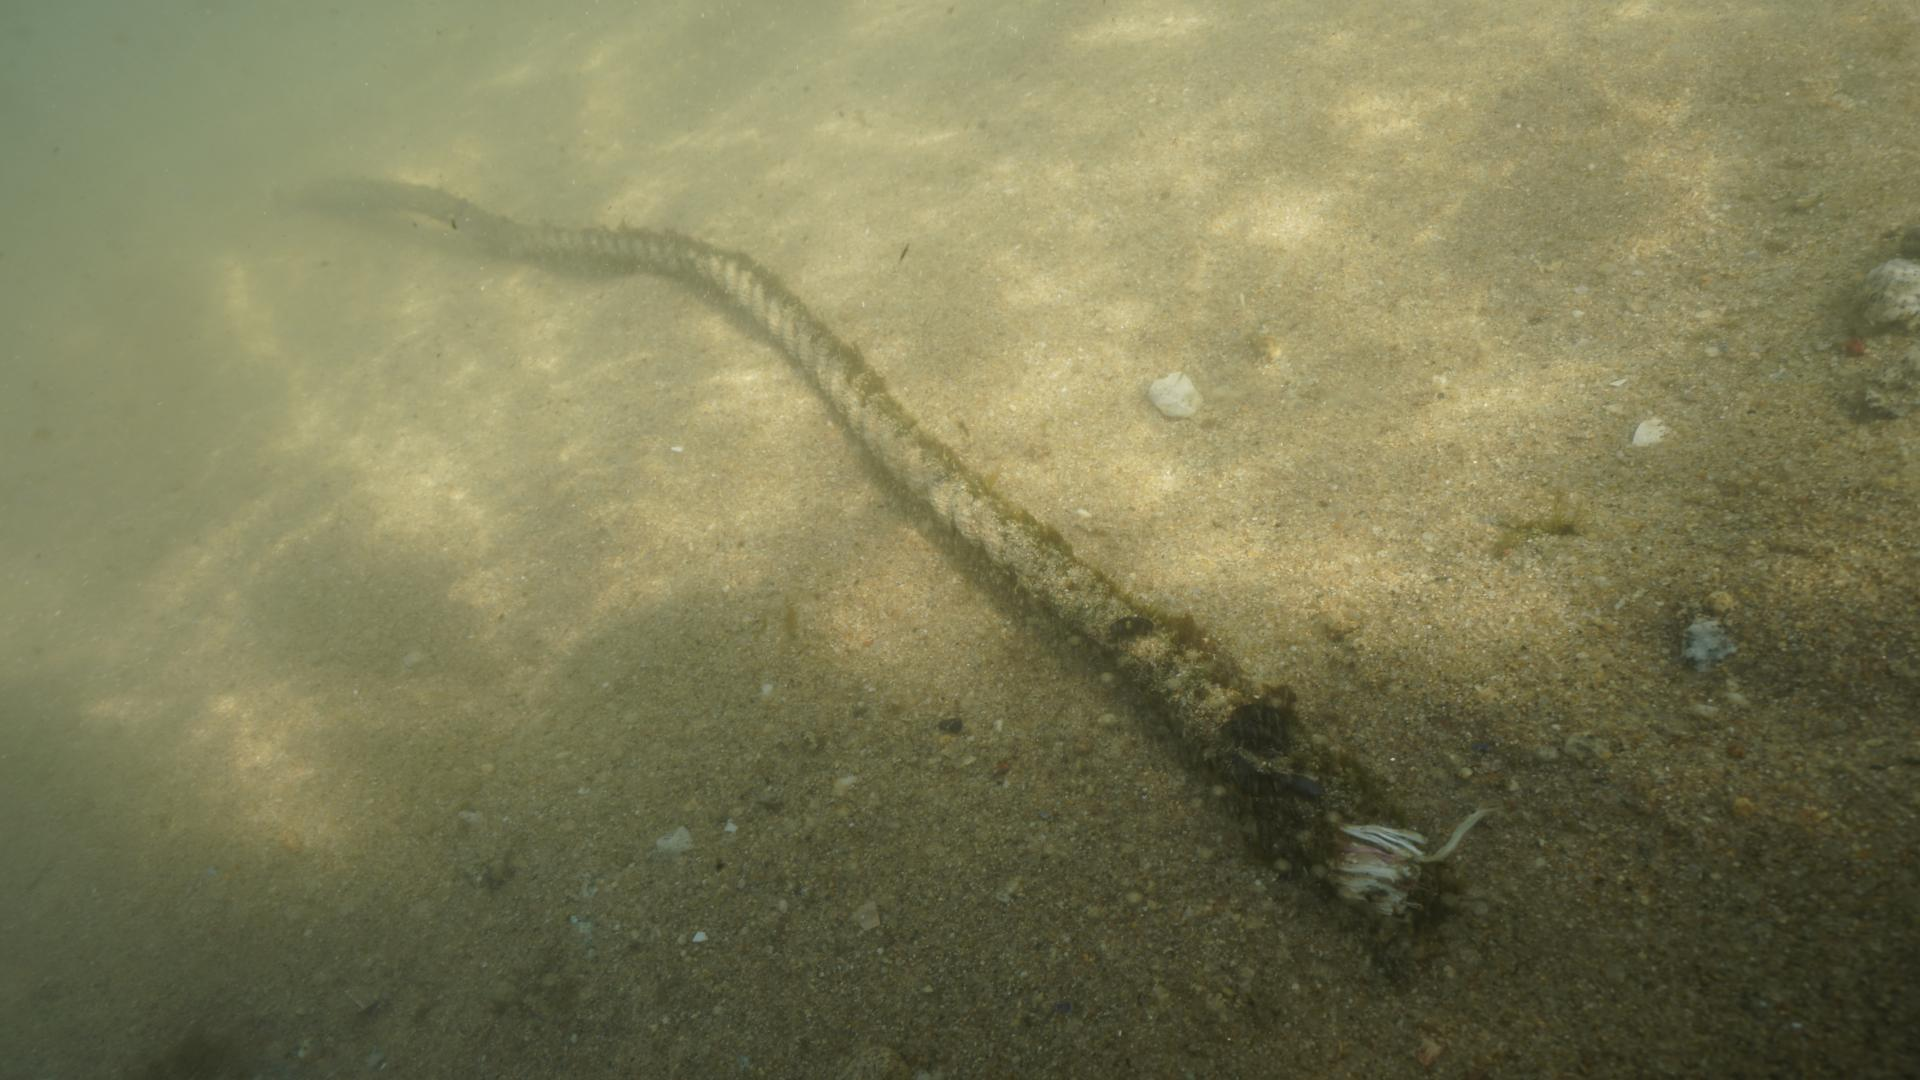rope: (291, 164, 1424, 928)
